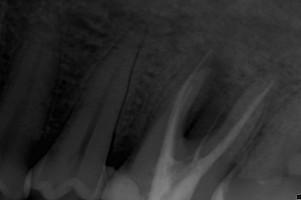Dental Caries: (185, 51, 246, 140)
